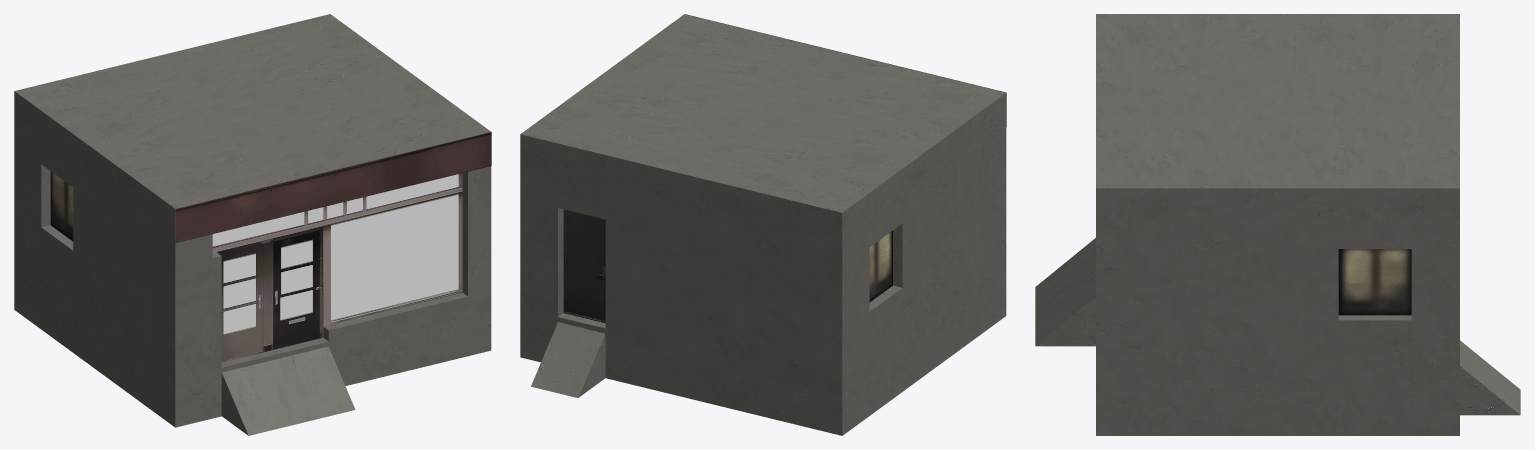
Rendered from small_house_2.fbx.
The picture shows the model from 3 angles, left to right: view 1: azimuth 30°, elevation 25°; view 2: azimuth 150°, elevation 25°; view 3: azimuth 270°, elevation 25°; orthographic projection. The views are drawn at different scales.
Parts seen in each view (by area): view 1: small_house_2; view 2: small_house_2; view 3: small_house_2.
Boxes of the visible parts, x1,y1,x2,y2 form: small_house_2: (14,14,491,435); small_house_2: (520,14,1006,435); small_house_2: (1035,14,1520,435).
Bounding box in the file's own units: 680 × 450 × 800.
